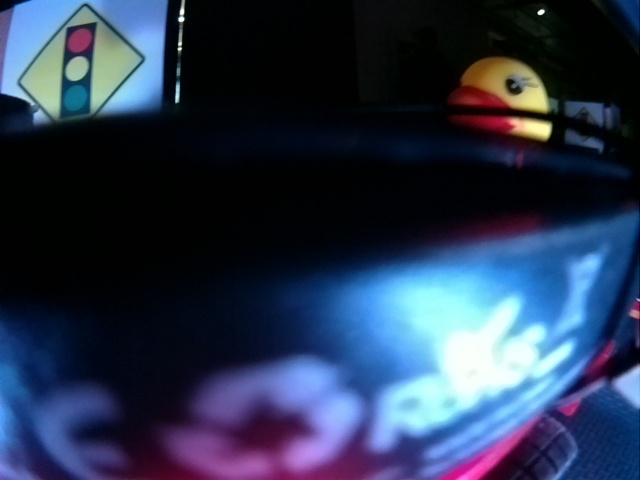Duckie: (449, 56, 553, 142)
Duckiebot: (3, 113, 639, 479)
Signal sign: (19, 3, 146, 122)
